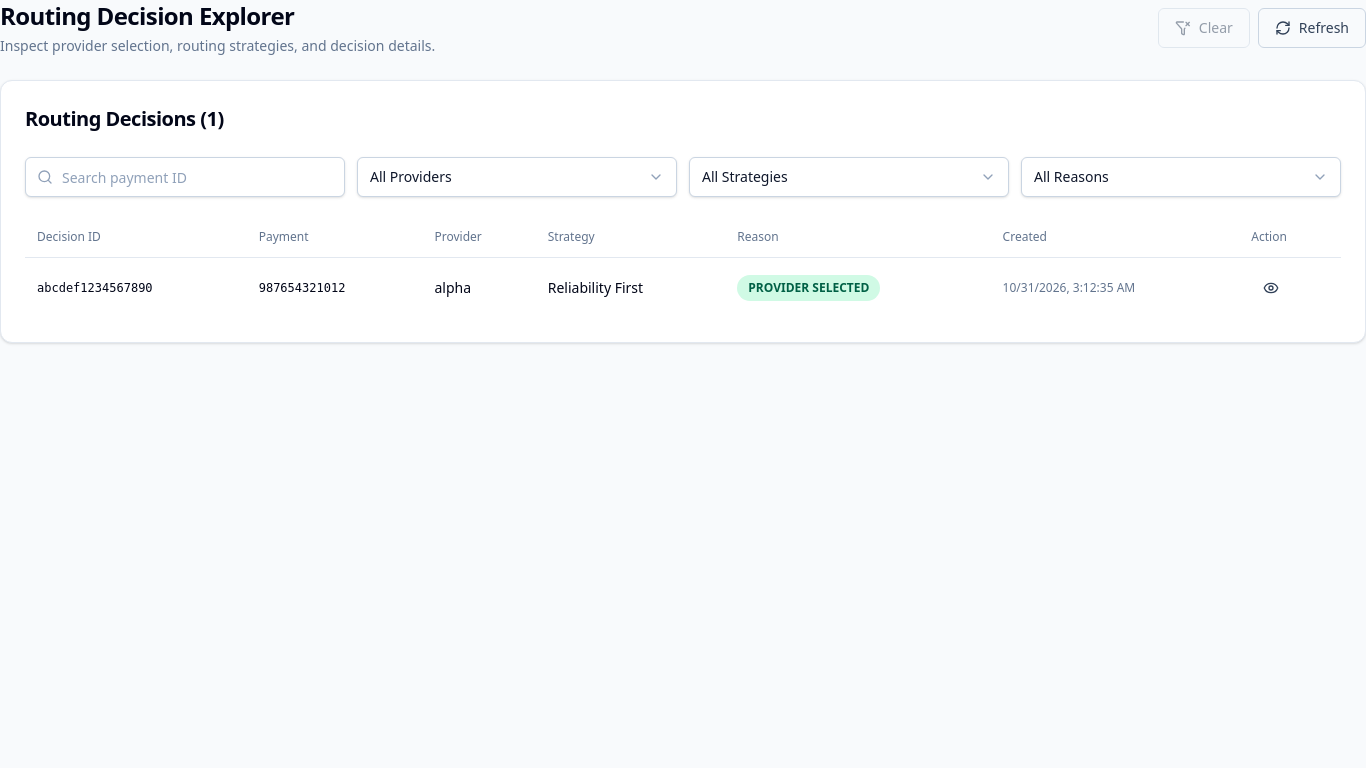
Test: Routing components resilience › renders RoutingDecisionExplorer and handles modal open/close without crashing
This screenshot has width=1366, height=768.
Expected: the heading "Routing Decision Explorer" is shown, [0,0,294,32]
Expected: the heading "Routing Decisions (1)" is shown, [25,105,224,132]
Step 1. Click the button named "View decision details" → click(1271, 288), box [1251,270,1291,306]
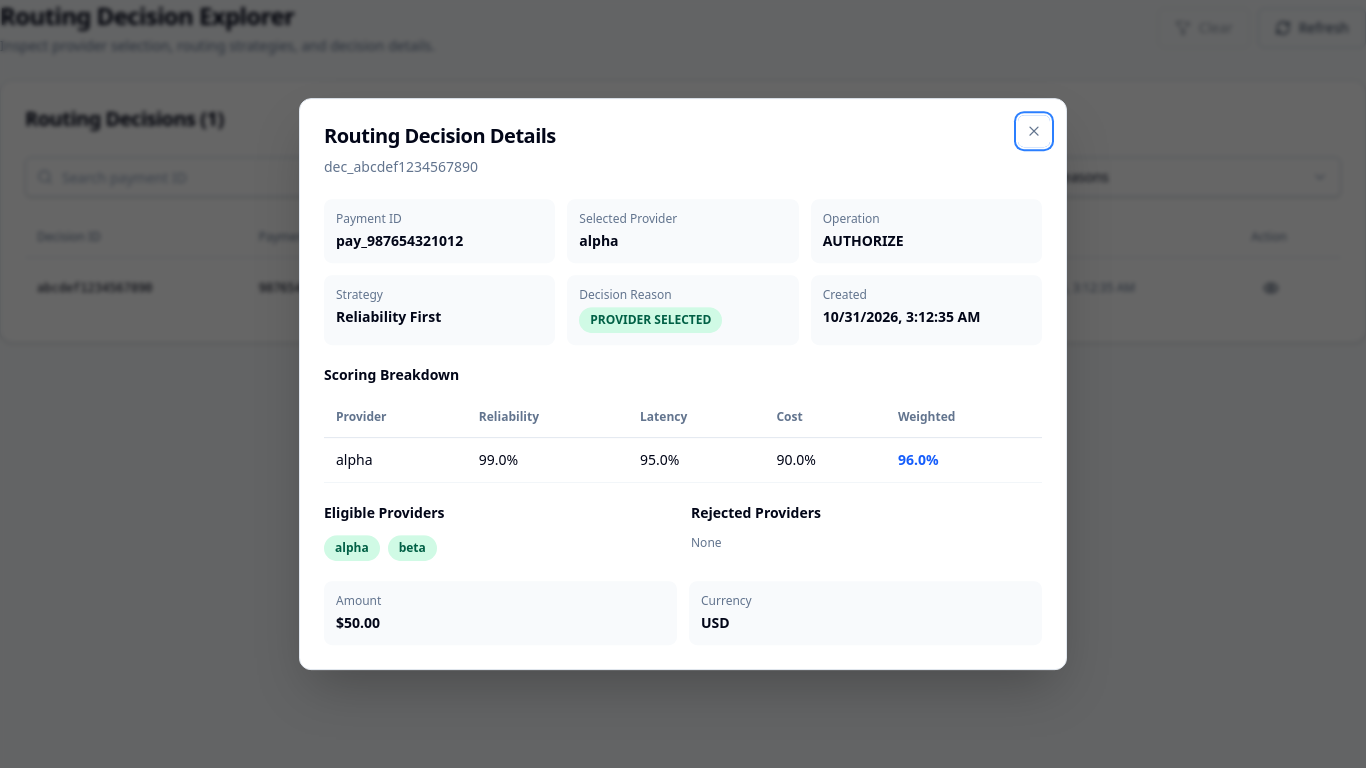
Now the heading "Routing Decision Details" is shown, box [324,122,556,149]
Now the heading "Scoring Breakdown" is shown, box [324,365,459,384]
# Clicking close button closes the modal
Step 2. Click the button named "close" → click(1034, 131), box [1018,115,1050,147]
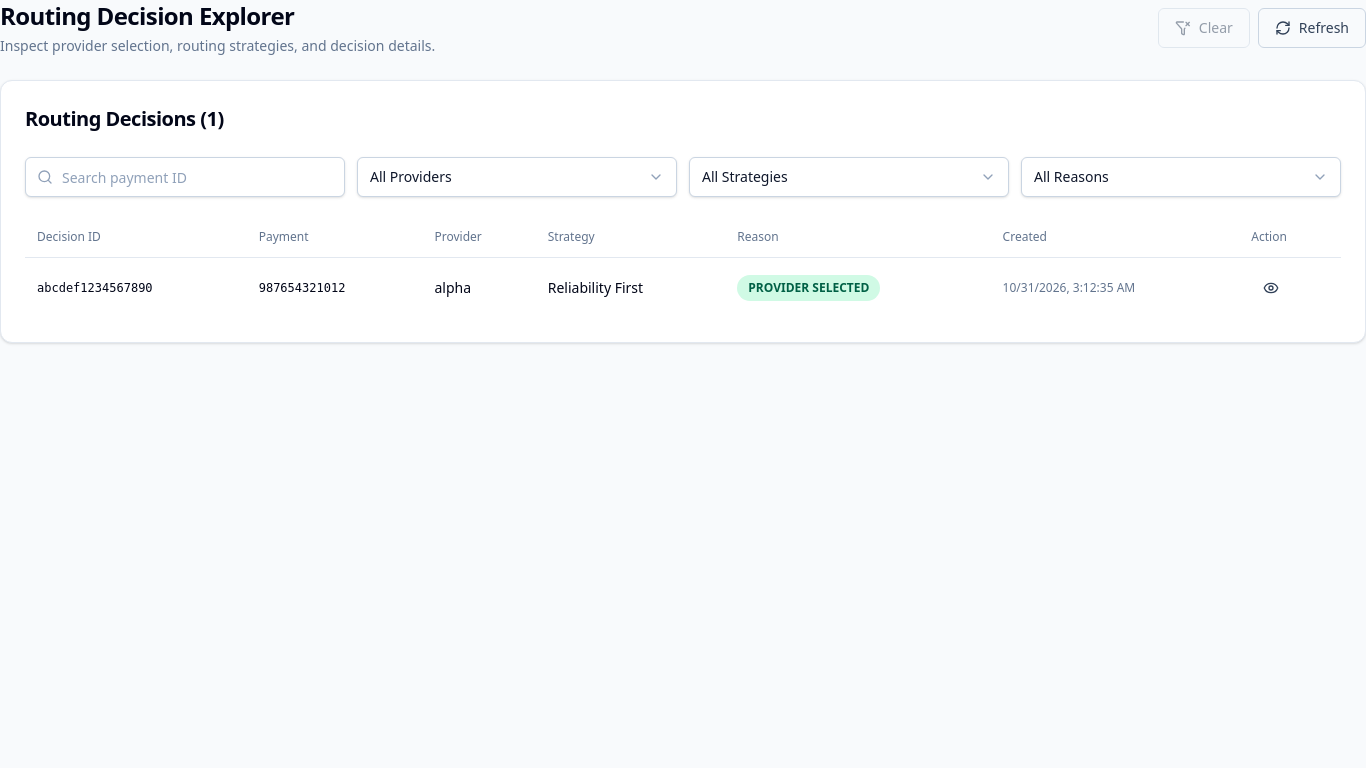
Now the heading "Routing Decision Details" is gone
